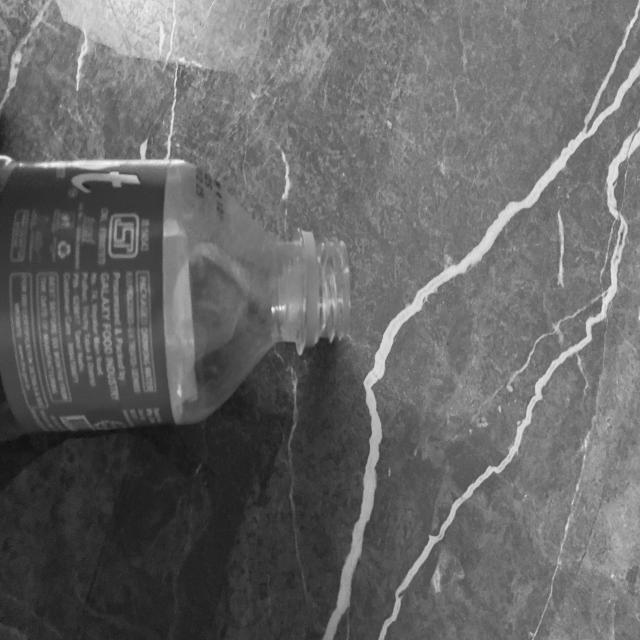open-cap: (299, 222, 349, 355)
